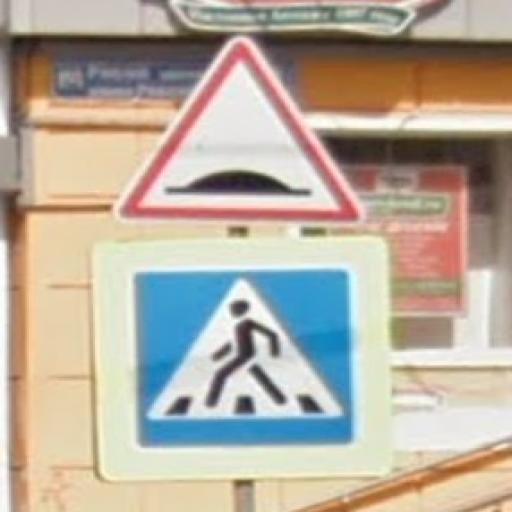traffic_sign: (91, 237, 393, 481), (114, 36, 368, 229)
